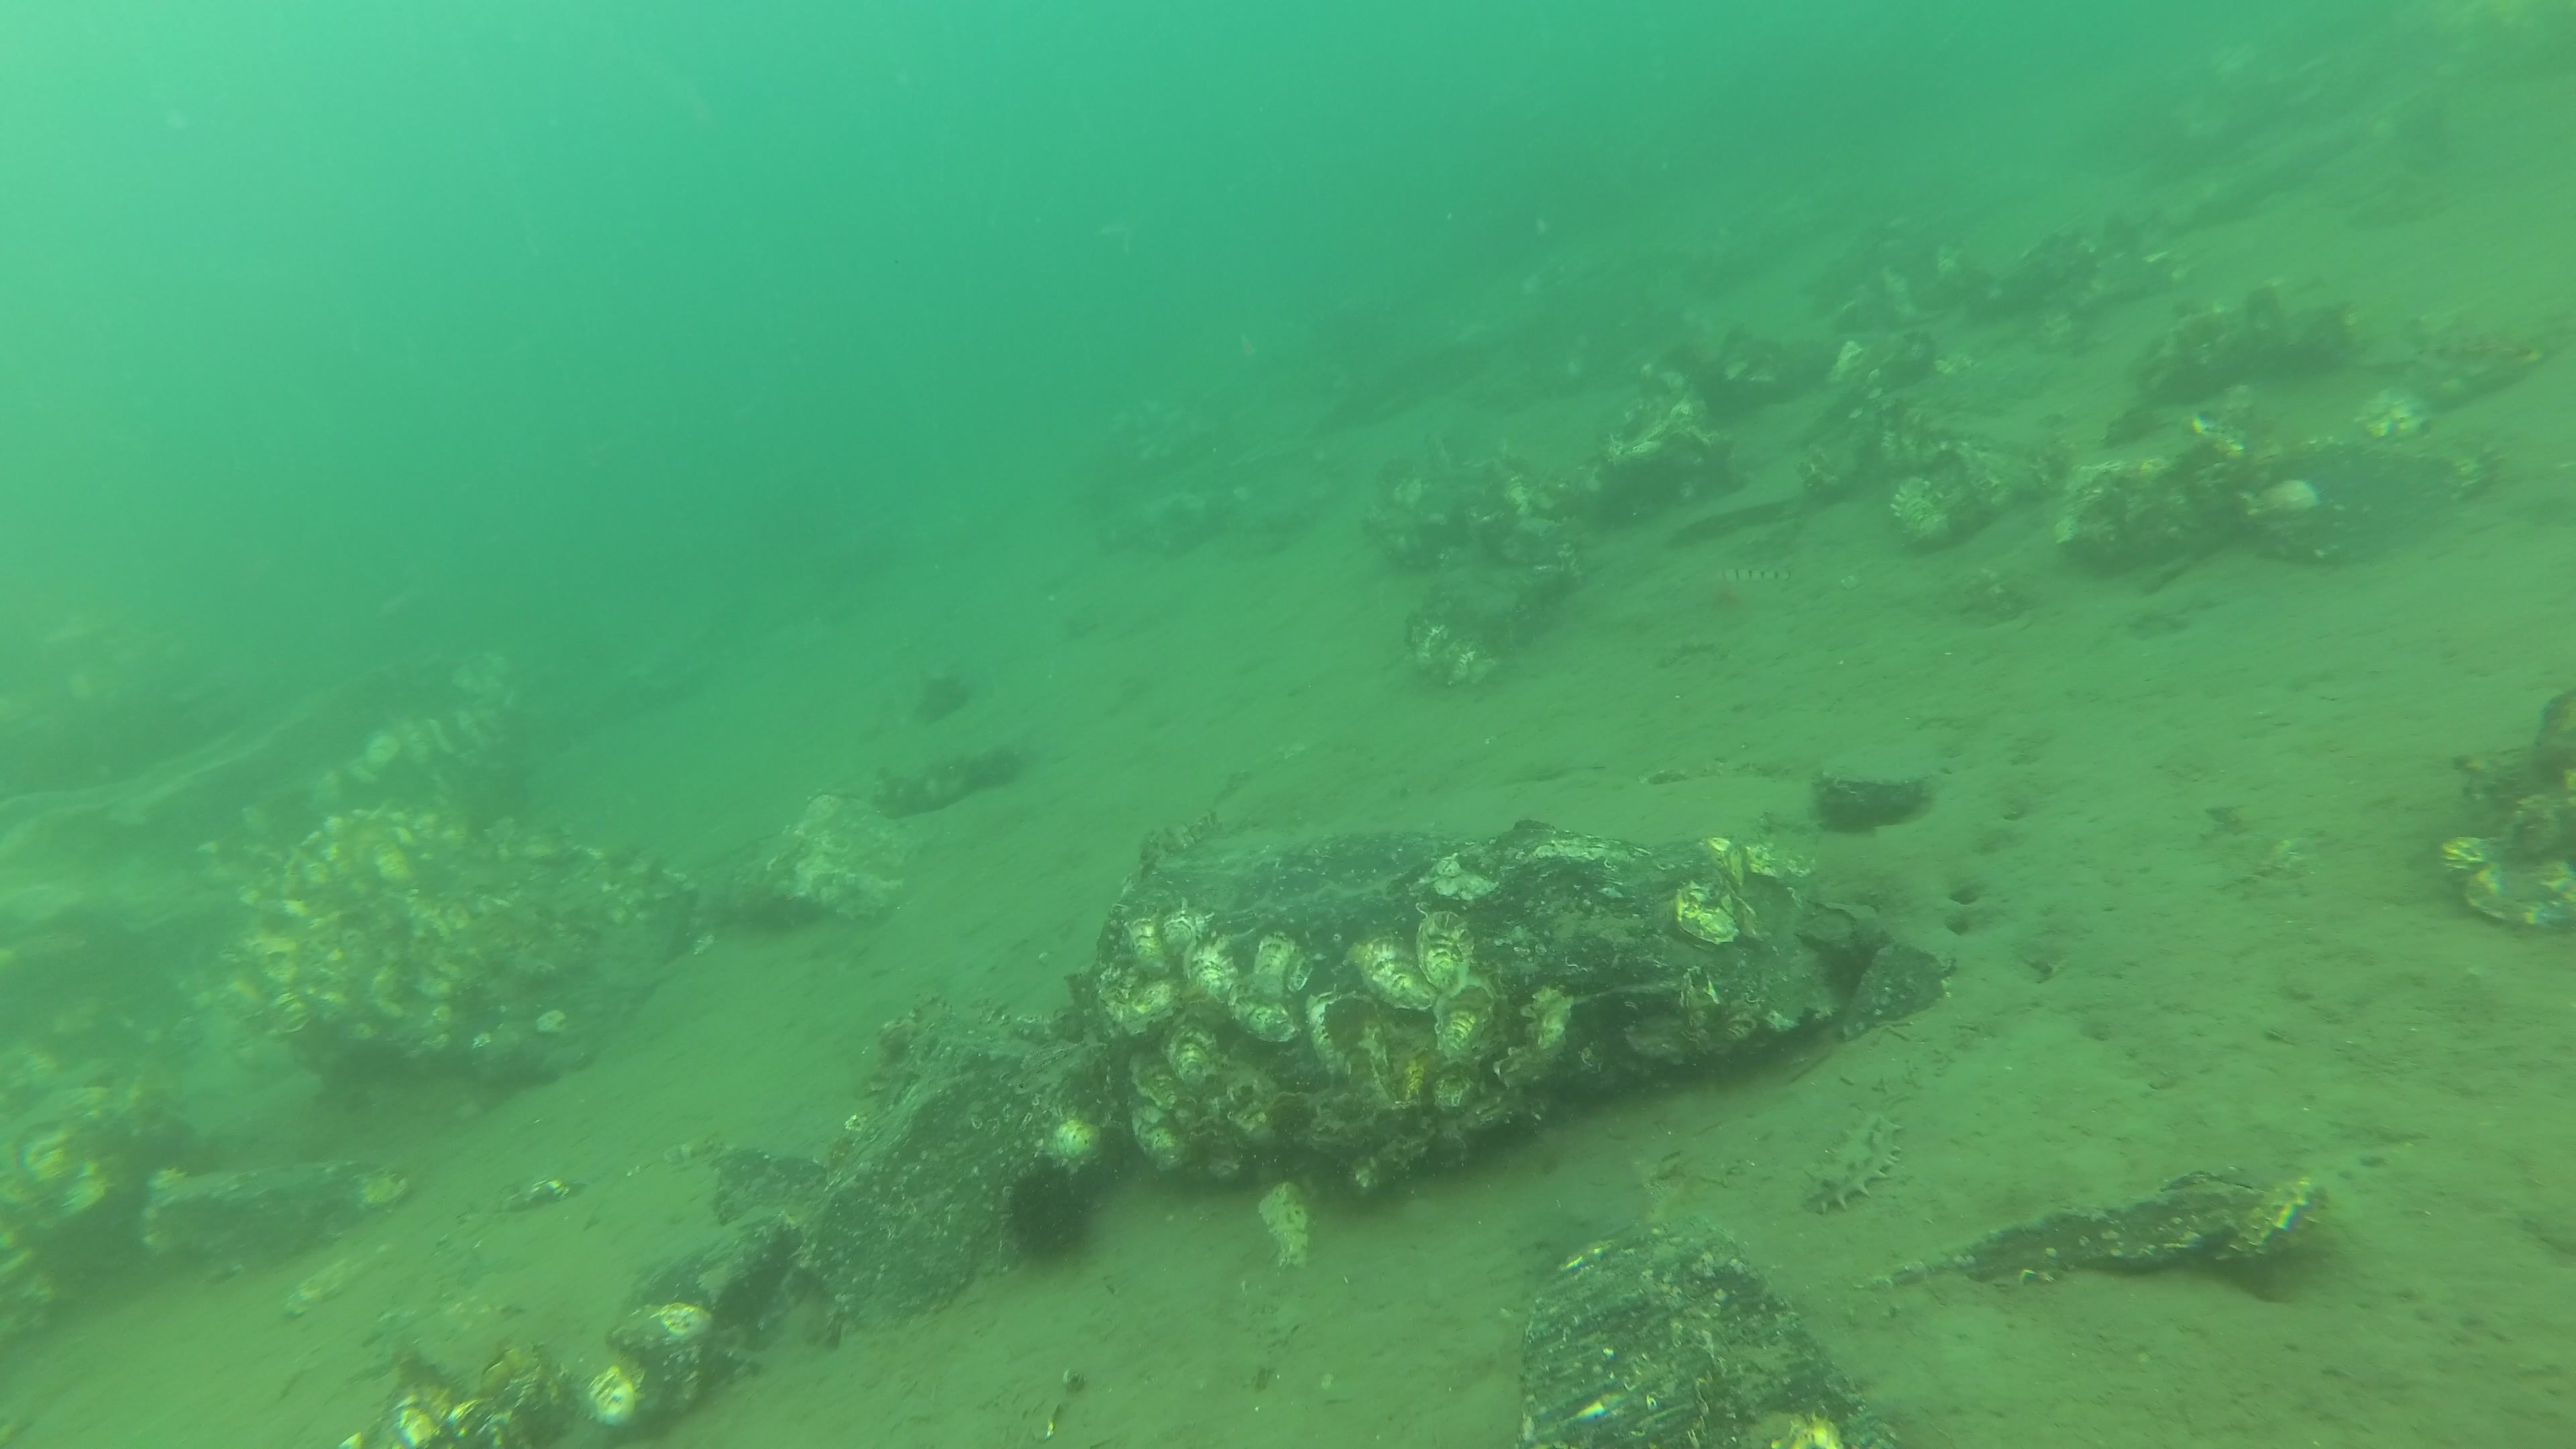echinus: (1000, 1161, 1097, 1270)
